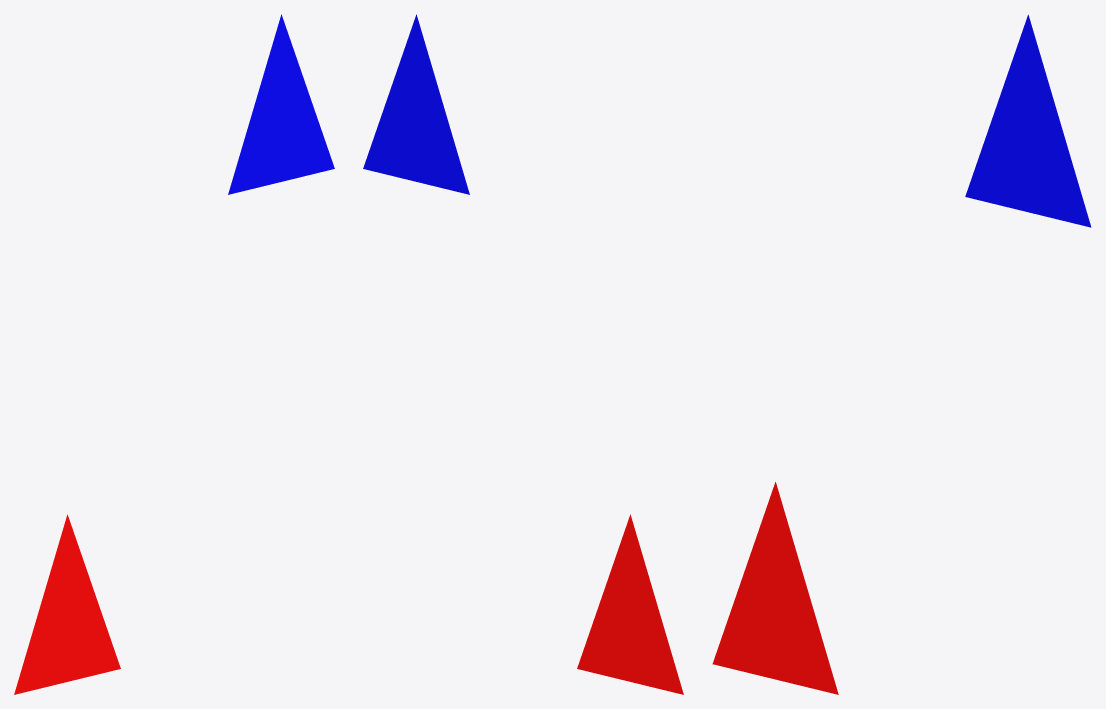
Rendered from joints.glb.
The picture shows the model from 3 angles, left to right: view 1: azimuth 30°, elevation 25°; view 2: azimuth 150°, elevation 25°; view 3: azimuth 330°, elevation 25°; orthographic projection. The views are drawn at different scales.
Visible parts, largest first — view 1: body, Head; view 2: body, Head; view 3: body, Head.
Part boxes in pixels (x1,y1,x2,y2): body: (14,514,120,694); Head: (228,14,334,194); body: (577,514,683,694); Head: (363,14,469,194); body: (712,482,838,694); Head: (965,14,1091,227).
Size of the model in its own units: 0.6 by 1.1 by 0.
